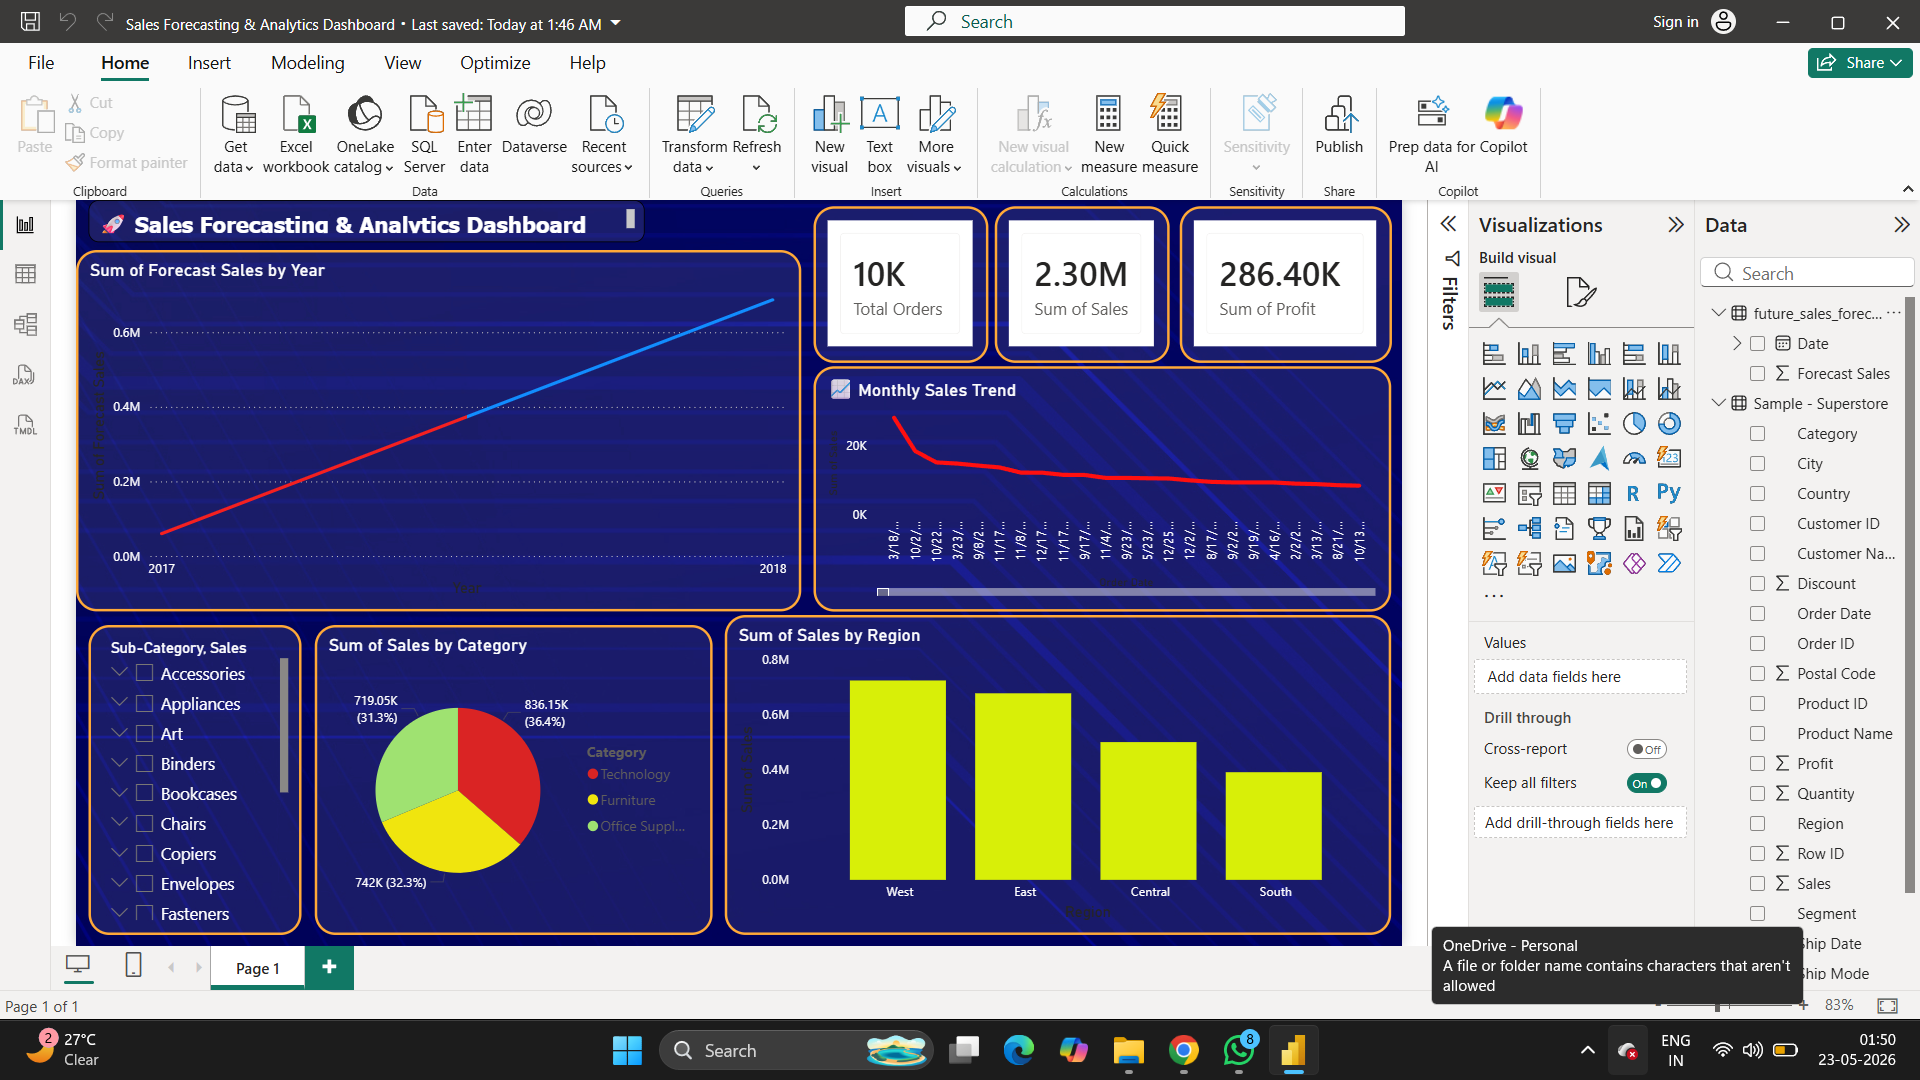

This screenshot's page, from the dashboard's own definition file:
{"tool":"powerbi","page":{"name":"Page 1","canvas":[1280,720],"ordinal":0},"visuals":[{"type":"cardVisual","fields":{"Data":["Sum(Sample - Superstore.Profit)"]},"box":[1064.8,5.5,204.5,150.9],"z":0},{"type":"cardVisual","fields":{"Data":["Sum(Sample - Superstore.Sales)"]},"box":[886.5,5.5,168.8,150.9],"z":1000},{"type":"cardVisual","fields":{"Data":["Sample - Superstore.Total Orders"]},"box":[712.2,5.5,168.8,150.9],"z":2000},{"type":"lineChart","title":"📈 Monthly Sales Trend","fields":{"Category":["Sample - Superstore.Order Date"],"Y":["Sum(Sample - Superstore.Sales)"]},"box":[12.1,41,690.1,359.5],"z":3000},{"type":"clusteredColumnChart","fields":{"Category":["Sample - Superstore.Region"],"Y":["Sum(Sample - Superstore.Sales)"]},"box":[626.1,410.2,643,299.2],"z":4000},{"type":"pieChart","fields":{"Category":["Sample - Superstore.Category"],"Y":["Sum(Sample - Superstore.Sales)"]},"box":[226.8,410.2,386.1,299.2],"z":5000},{"type":"slicer","fields":{"Values":["Sample - Superstore.Sub-Category","Sample - Superstore.Sales"]},"box":[12.3,410.3,205.8,299.1],"z":6000},{"type":"areaChart","fields":{"Category":["future_sales_forecast.Date.Variation.Date Hierarchy.Year","future_sales_forecast.Date.Variation.Date Hierarchy.Month","future_sales_forecast.Date.Variation.Date Hierarchy.Day"],"Y":["Sum(future_sales_forecast.Forecast Sales)"]},"box":[711.8,160.5,557.4,240.1],"z":7000},{"type":"textbox","box":[12.3,0,536.5,41.2],"z":8000}]}

Visuals, with their boxes on the page's 1280x720 design canvas (x1, y1, x2, y2). These are canvas units, not pixel positions in the 1920x1080 screenshot, which may show the page scaled, cropped or inside an application window:
cardVisual - Sum(Sample - Superstore.Profit): [1065, 6, 1269, 156]
cardVisual - Sum(Sample - Superstore.Sales): [886, 6, 1055, 156]
cardVisual - Sample - Superstore.Total Orders: [712, 6, 881, 156]
"📈 Monthly Sales Trend" lineChart: [12, 41, 702, 400]
clusteredColumnChart - Sample - Superstore.Region x Sum(Sample - Superstore.Sales): [626, 410, 1269, 709]
pieChart - Sample - Superstore.Category x Sum(Sample - Superstore.Sales): [227, 410, 613, 709]
slicer - Sample - Superstore.Sub-Category x Sample - Superstore.Sales: [12, 410, 218, 709]
areaChart - future_sales_forecast.Date.Variation.Date Hierarchy.Year x future_sales_forecast.Date.Variation.Date Hierarchy.Month: [712, 160, 1269, 401]
textbox: [12, 0, 549, 41]
